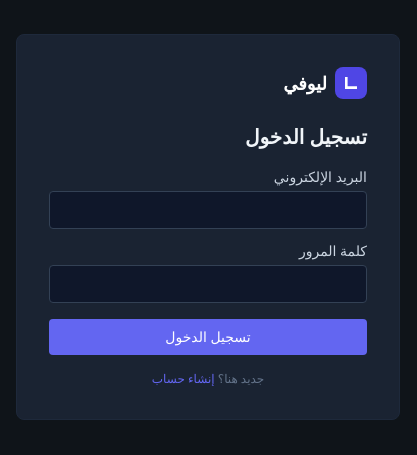
LoginPage › shows an error message when login fails
This screenshot has width=417, height=455.
Type "user@example.com" into the field with test id "login-email" at (208, 210), box [49,191,367,229]
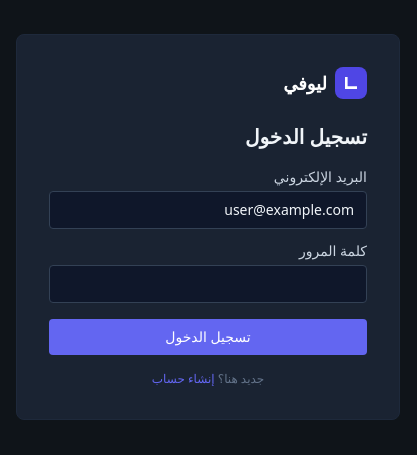
Type "wrongpass123" into the password field with test id "login-password" at (208, 284), box [49,265,367,303]
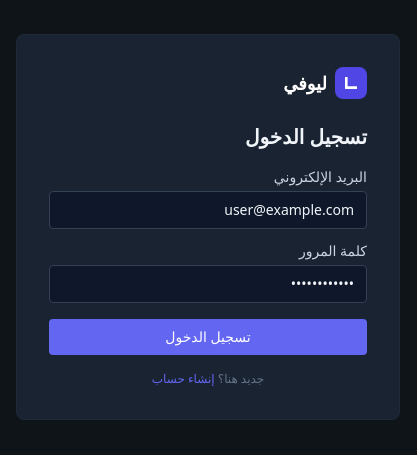
Click the button with test id "login-submit" at (208, 337), box [49,319,367,355]
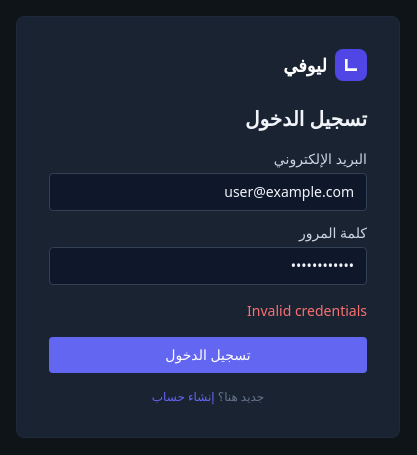
expect the message reads "Invalid credentials": met, box [247,301,367,320]
